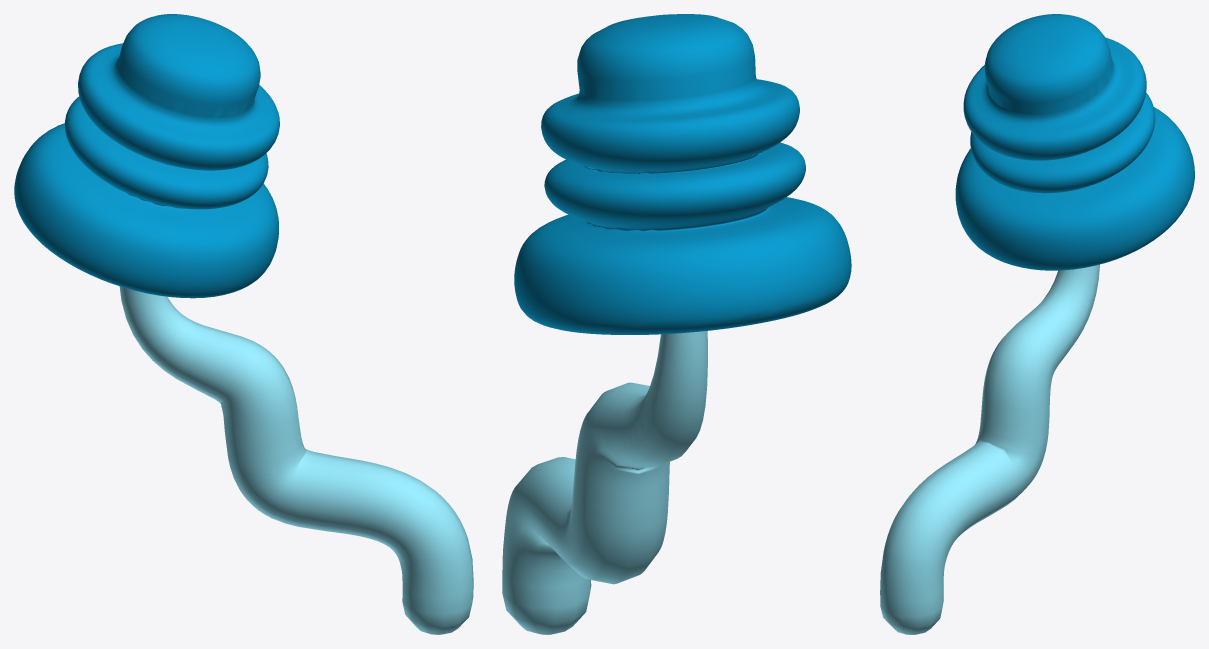
Rendered from shroom_4.glb.
The picture shows the model from 3 angles, left to right: view 1: azimuth 30°, elevation 25°; view 2: azimuth 150°, elevation 25°; view 3: azimuth 270°, elevation 25°; orthographic projection. The views are drawn at different scales.
Visible parts, largest first — view 1: r.0263, s.0260; view 2: r.0263, s.0260; view 3: r.0263, s.0260.
Boxes of the visible parts, x1,y1,x2,y2 form: r.0263: (14,14,279,298); s.0260: (119,286,473,634); r.0263: (514,14,851,334); s.0260: (502,331,707,634); r.0263: (955,14,1194,270); s.0260: (880,264,1099,634).
Bounding box in the file's own units: 1.08 × 1.76 × 0.9492.
